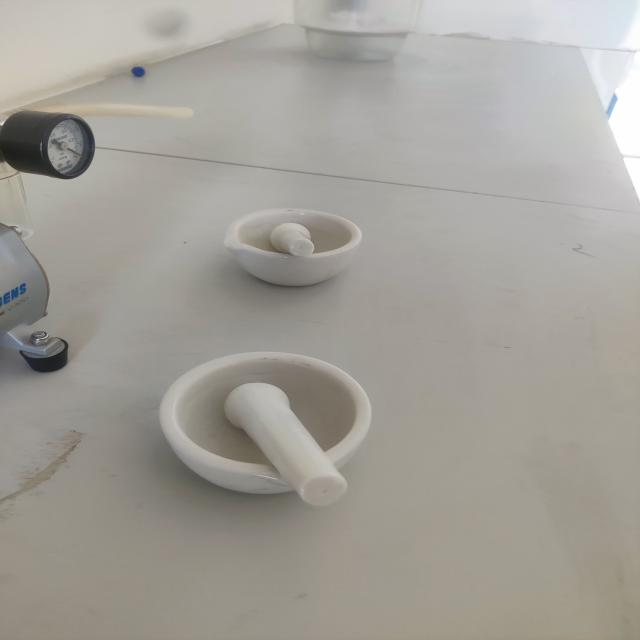Porcelain_Mortar Pestle: (116, 325, 400, 532), (197, 176, 389, 303)
